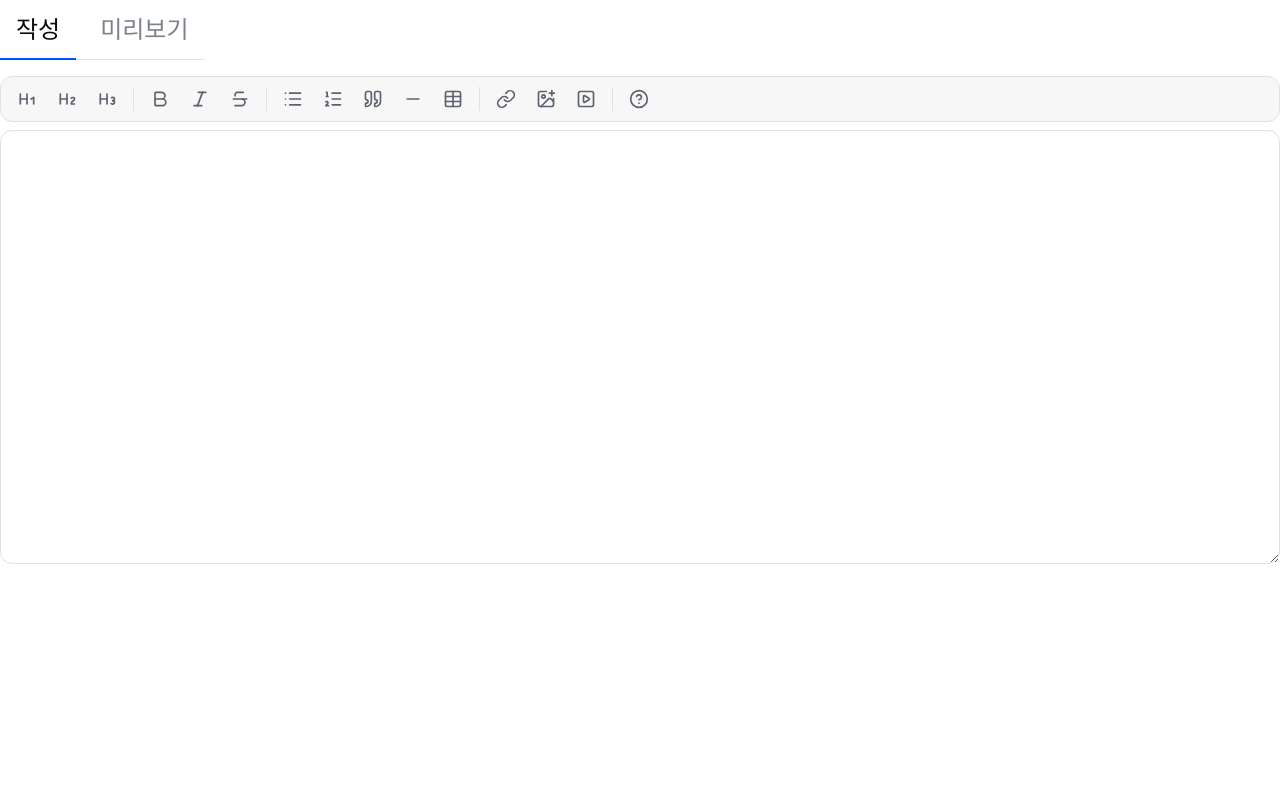
Scenario: MarkdownToolbar — 링크·유튜브 › 문구와 주소로 링크를 넣는다
Step 1. Click the button named "링크" → [506, 99], box [488,81,524,117]
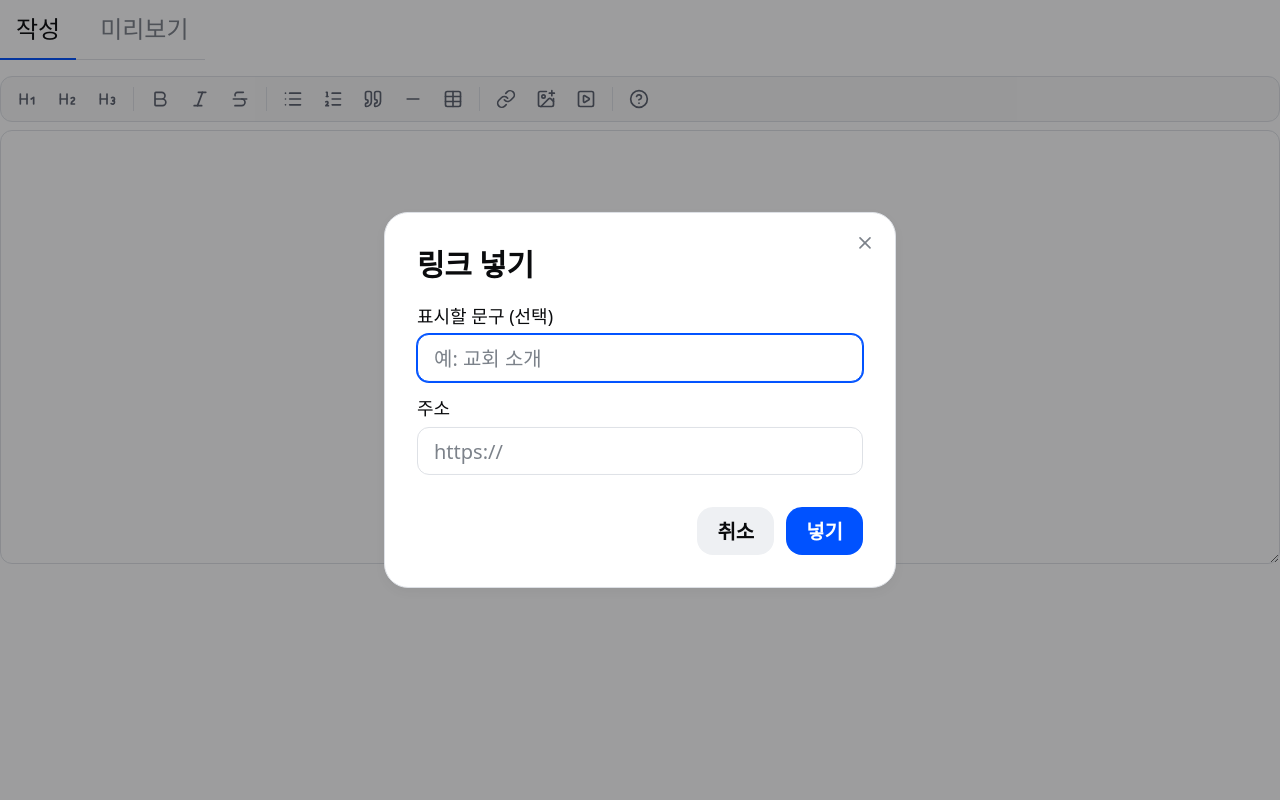
Step 2. Type "교회 소개" into the field labelled "표시할 문구 (선택)" → [640, 358], box [417,334,863,382]
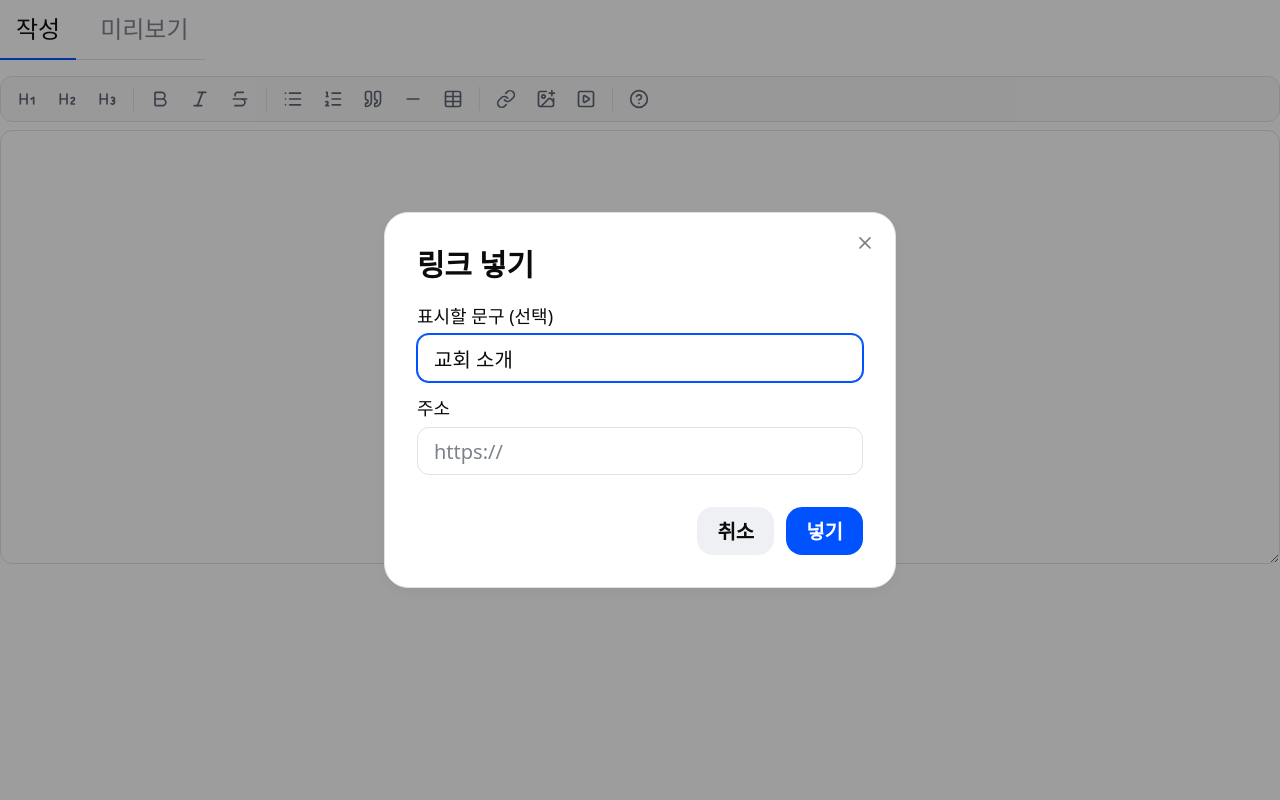
Step 3. Type "https://example.com" into the field labelled "주소" → [640, 451], box [417,427,863,475]
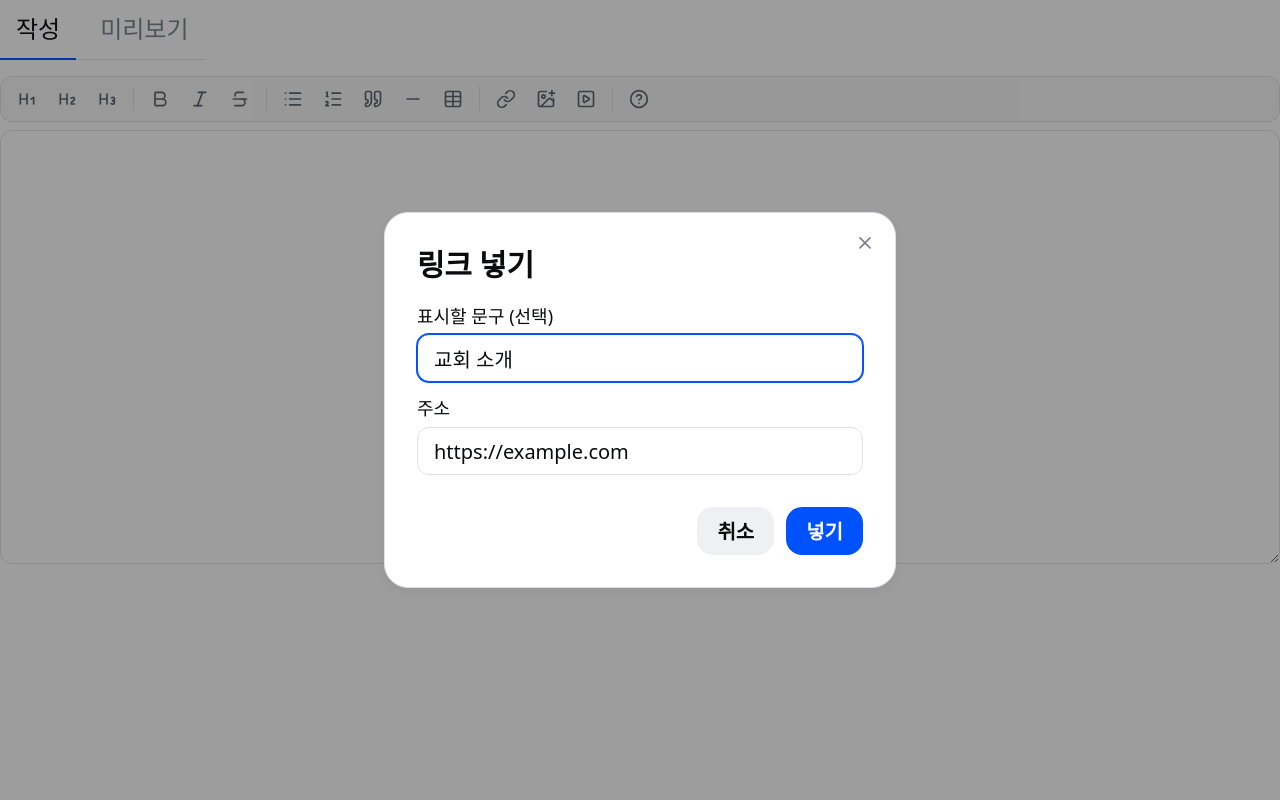
Step 4. Click the button "넣기" → [825, 531], box [786,507,863,555]
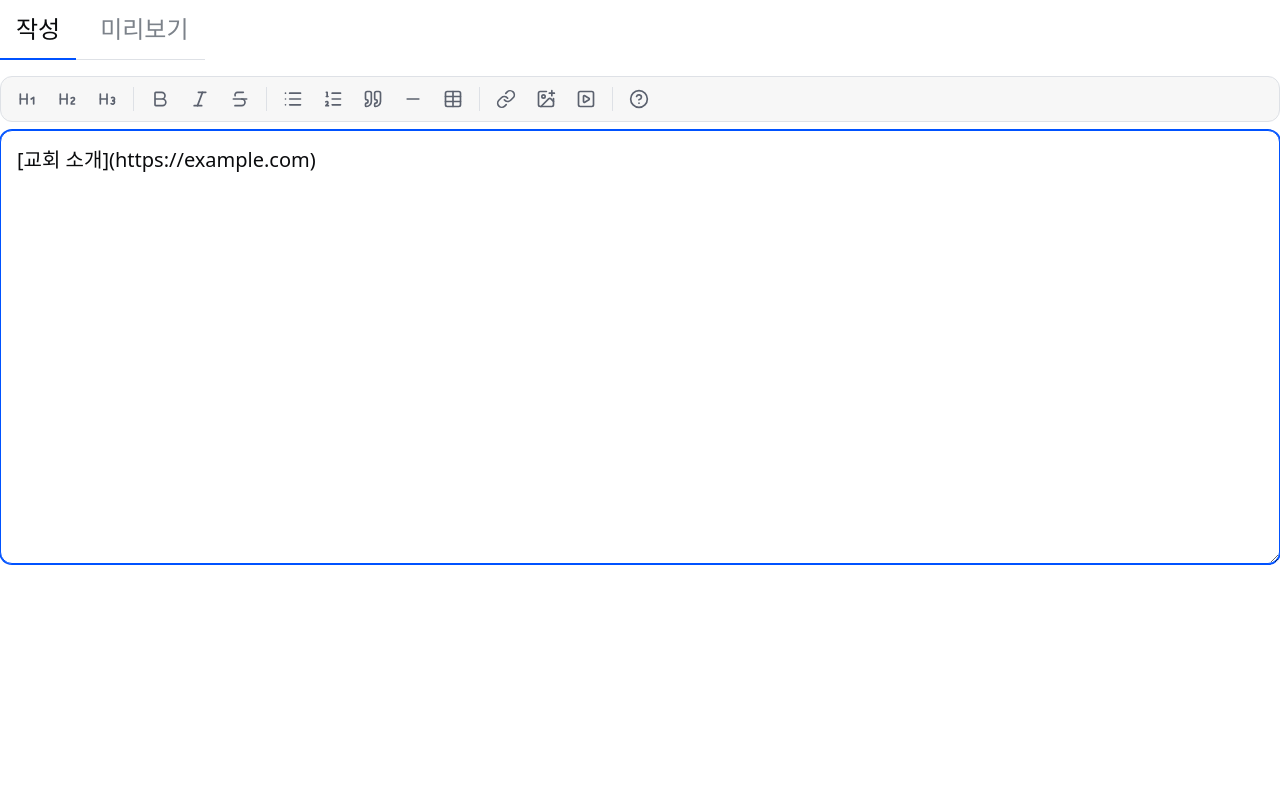
Check: the text box holds "[교회 소개](https://example.com)", box [0,130,1279,564]
